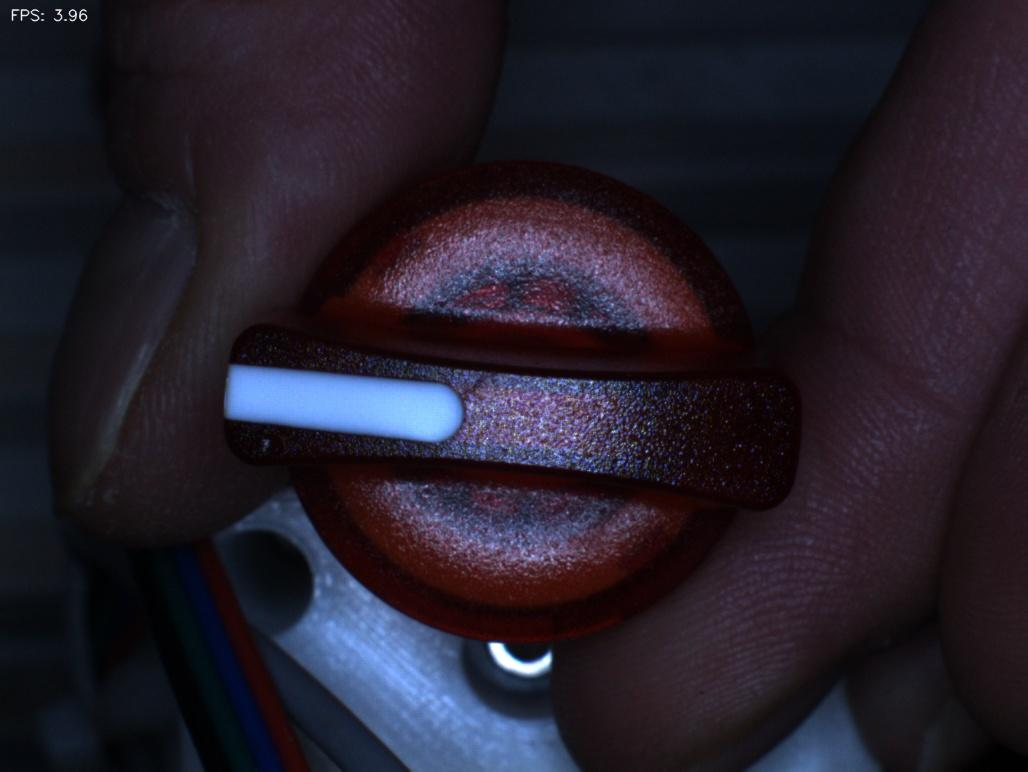Choc: (228, 399, 314, 491)
